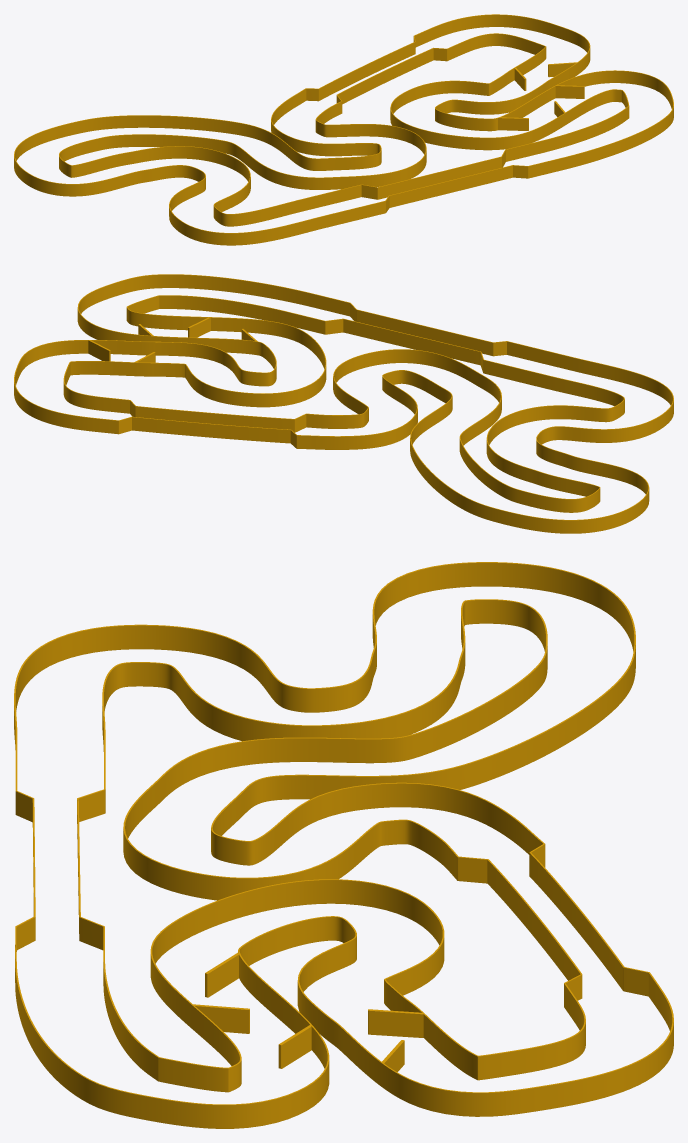
Rendered from WALLS.fbx.
3 renders of one model, top to bottom at view 1: azimuth 30°, elevation 25°; view 2: azimuth 150°, elevation 25°; view 3: azimuth 270°, elevation 25°, orthographic. The views are drawn at different scales.
Parts seen in each view (by area): view 1: THICK_WALLS, LittleWalls; view 2: THICK_WALLS, LittleWalls; view 3: THICK_WALLS, LittleWalls.
Part boxes in pixels (<box>): THICK_WALLS: <box>14,14,673,245</box>; LittleWalls: <box>498,63,584,130</box>; THICK_WALLS: <box>14,274,673,533</box>; LittleWalls: <box>88,317,253,362</box>; THICK_WALLS: <box>14,562,673,1128</box>; LittleWalls: <box>193,955,423,1071</box>.
Size of the model in its own units: 4012 by 7812 by 161.
